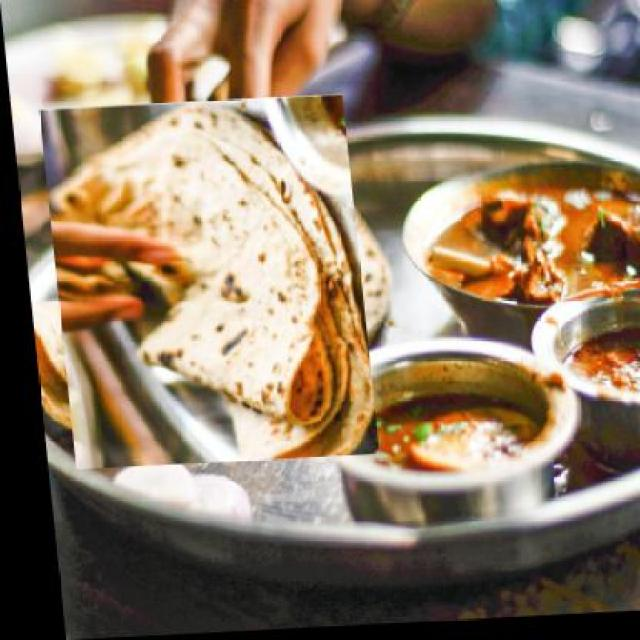chapati: (24, 111, 384, 457)
